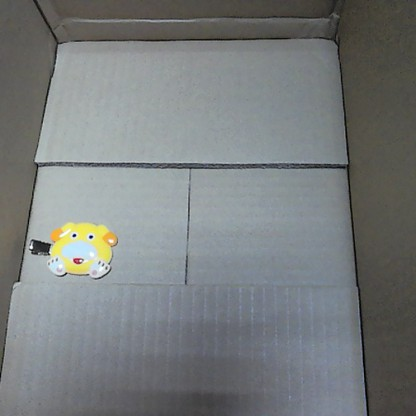dogclip: (26, 216, 121, 279)
